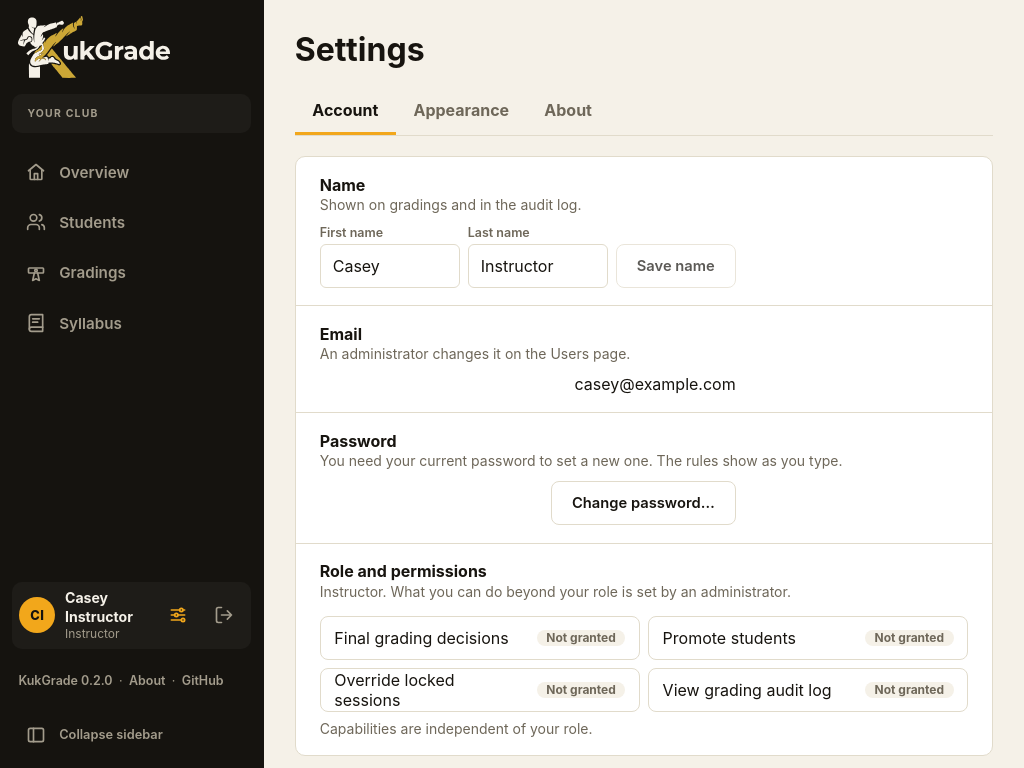
Test: Settings: Account › saves your own name, and the sidebar shows it straight away
Check: the button "Save name" is disabled, box [616,244,736,288]
Replace the text in the field labelled "Last name" with "  Park " at (538, 266), box [468,244,608,288]
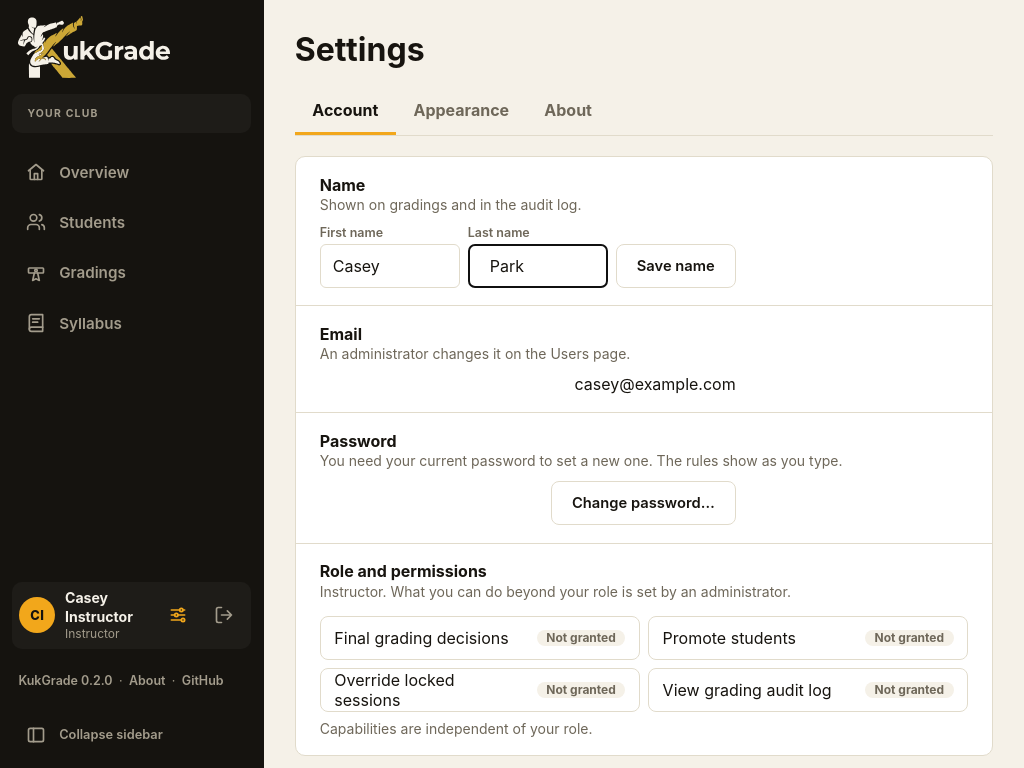
Click the button "Save name" at (676, 266), box [616,244,736,288]
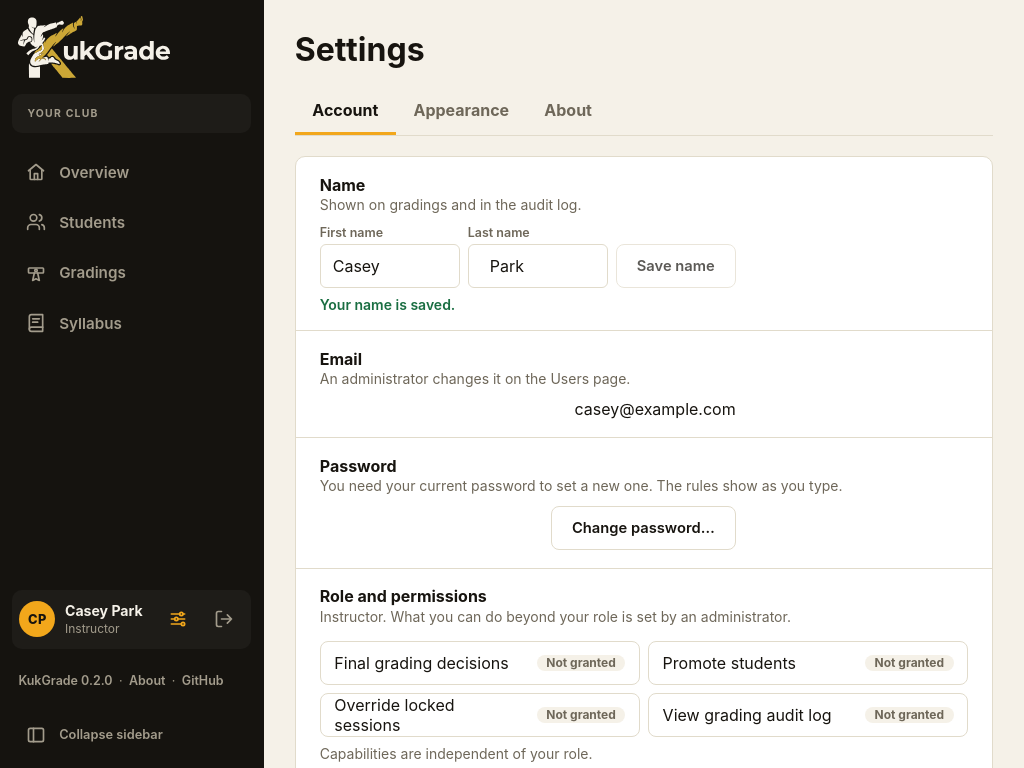
Check: the text "Your name is saved." is shown, box [320,296,455,313]
Check: the link with aria-label "Casey Park, Instructor: your account" is shown, box [19,597,153,641]
